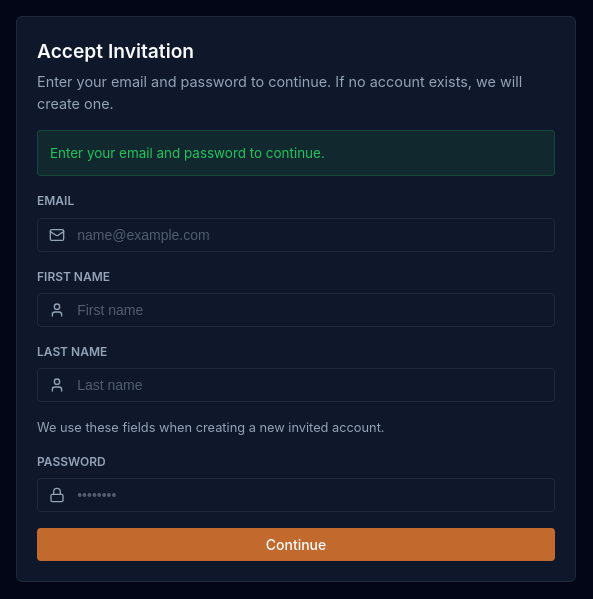
it: AcceptInvitation › requires first and last name before creating an invited account
Type "invitee@example.com" into the field labelled "Email" at {"x": 296, "y": 235}, box top-left (37, 218), bottom-right (555, 252)
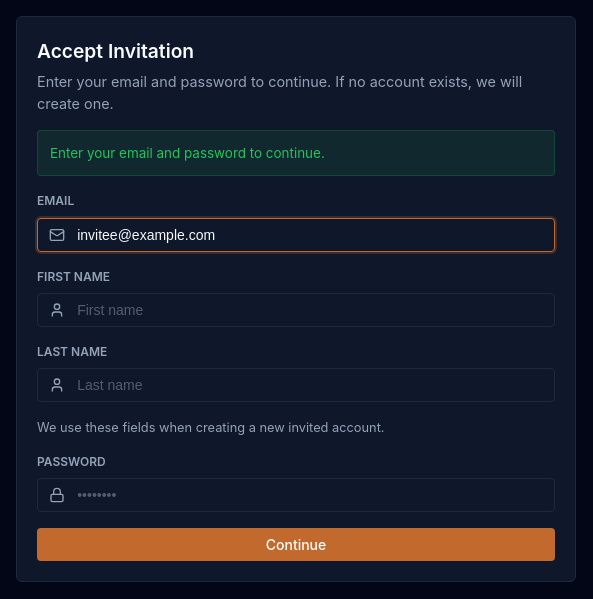
Type "CreatePass123!" into the password field labelled "Password" at {"x": 296, "y": 495}, box top-left (37, 478), bottom-right (555, 512)
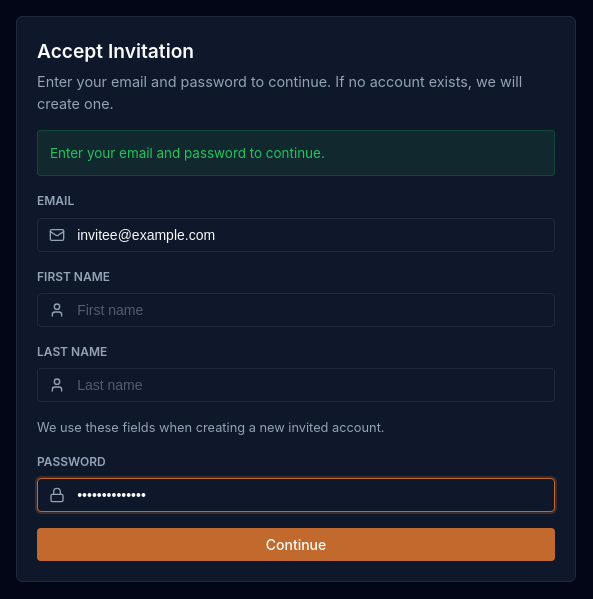
Click the button "Continue" at {"x": 296, "y": 545}, box top-left (37, 528), bottom-right (555, 561)
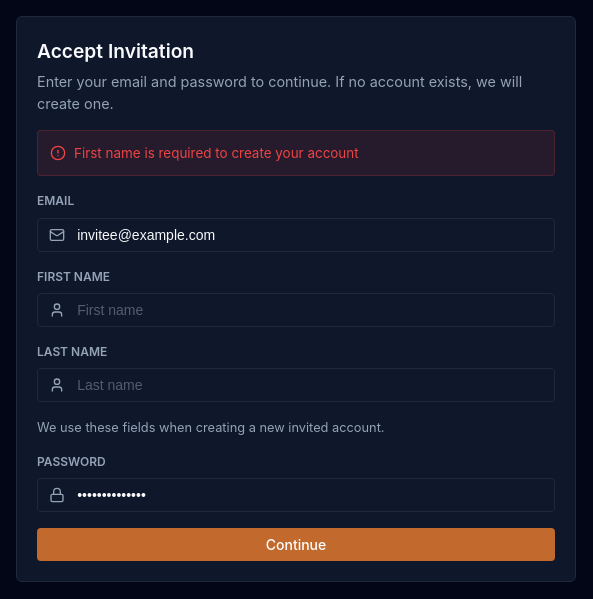
Result: the text "First name is required to create your account" is shown at top-left (74, 143), bottom-right (359, 164)
